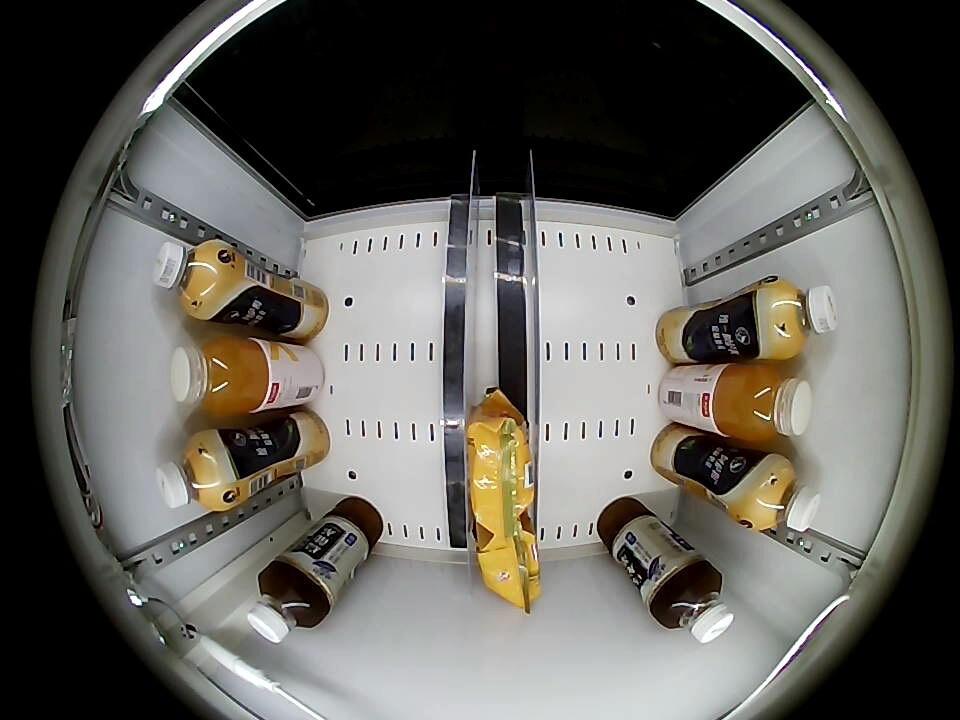asamu: (156, 431, 234, 512), (760, 279, 840, 357), (742, 457, 823, 534), (152, 240, 231, 317)
kaomo_gali: (465, 401, 537, 532), (471, 532, 540, 604)
weic: (713, 363, 814, 443), (170, 336, 270, 416)
wulongcha: (245, 561, 328, 644), (655, 562, 735, 644)
